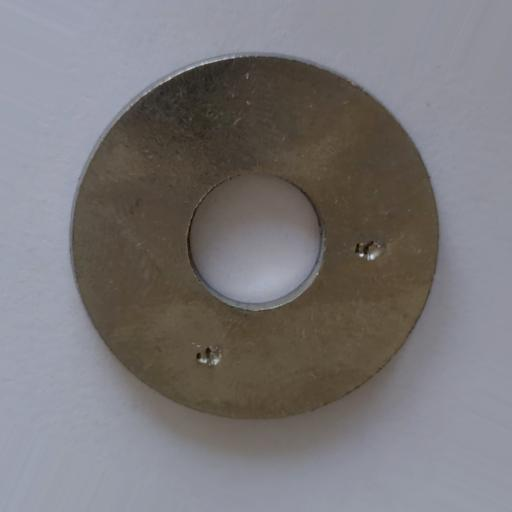circular_cavity: (357, 240, 387, 261), (196, 345, 221, 366)
